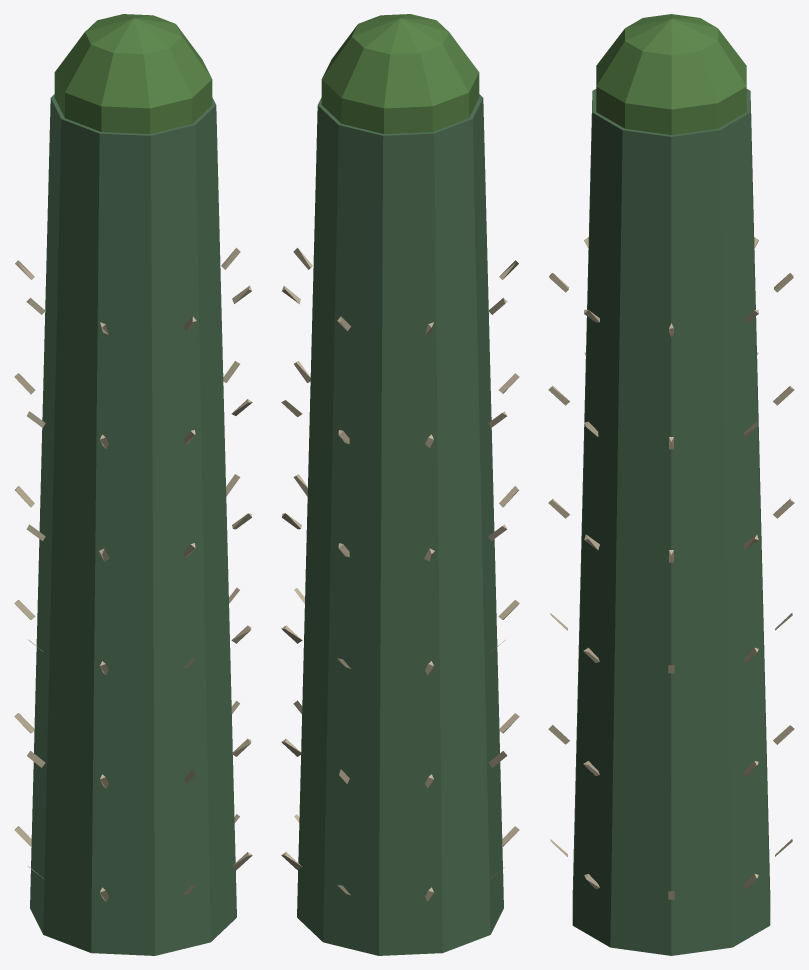
File: vegetation-cactus-column.lod2.glb
The picture shows the model from 3 angles, left to right: view 1: azimuth 30°, elevation 25°; view 2: azimuth 150°, elevation 25°; view 3: azimuth 270°, elevation 25°; orthographic projection.
Parts seen in each view (by area): view 1: vegetation-cactus-column__body; view 2: vegetation-cactus-column__body; view 3: vegetation-cactus-column__body.
Part boxes in pixels (<box>): vegetation-cactus-column__body: <box>14,14,252,955</box>; vegetation-cactus-column__body: <box>281,14,519,955</box>; vegetation-cactus-column__body: <box>548,14,794,955</box>.
Bounding box in the file's own units: 0.5932 × 2.37 × 0.5932.
